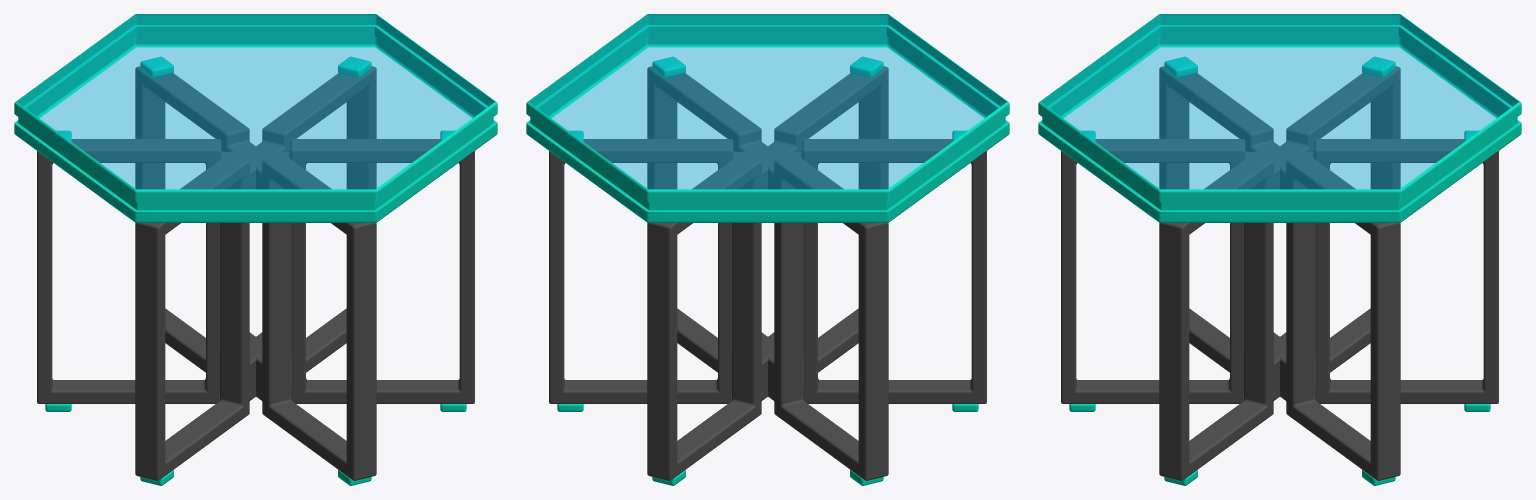
File: table.glb
3 renders of one model, left to right at view 1: azimuth 30°, elevation 25°; view 2: azimuth 150°, elevation 25°; view 3: azimuth 270°, elevation 25°, orthographic.
Parts seen in each view (by area): view 1: Cylinder, Cube.002, Cube.001, Cube.003; view 2: Cylinder, Cube.002, Cube.001, Cube.003; view 3: Cylinder, Cube.002, Cube.001, Cube.003.
Part boxes in pixels (left/top/right/bottom): Cylinder: left=14, top=14, right=497, bottom=222; Cube.002: left=37, top=66, right=474, bottom=480; Cube.001: left=57, top=56, right=454, bottom=141; Cube.003: left=45, top=404, right=466, bottom=485; Cylinder: left=526, top=14, right=1009, bottom=222; Cube.002: left=549, top=66, right=986, bottom=480; Cube.001: left=569, top=56, right=966, bottom=141; Cube.003: left=557, top=404, right=978, bottom=485; Cylinder: left=1038, top=14, right=1521, bottom=222; Cube.002: left=1061, top=66, right=1498, bottom=480; Cube.001: left=1081, top=56, right=1478, bottom=141; Cube.003: left=1069, top=404, right=1490, bottom=485.
Bounding box in the file's own units: 1.56 × 1.25 × 1.8.
